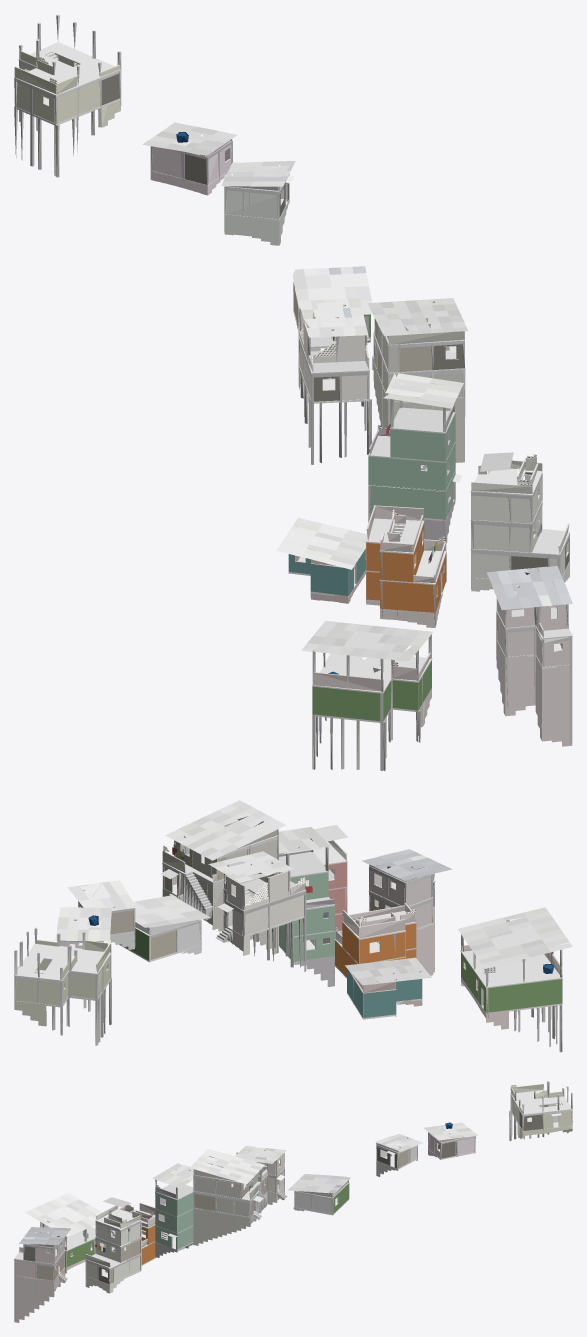
3 renders of one model, top to bottom at view 1: azimuth 30°, elevation 25°; view 2: azimuth 150°, elevation 25°; view 3: azimuth 270°, elevation 25°, orthographic. The views are drawn at different scales.
Parts seen in each view (by area): view 1: T_24_28; view 2: T_24_28; view 3: T_24_28.
Boxes of the visible parts, x1=… form: T_24_28: x1=14, y1=14, x2=572, y2=770; T_24_28: x1=14, y1=800, x2=572, y2=1052; T_24_28: x1=14, y1=1081, x2=572, y2=1322.
Bounding box in the file's own units: 31.6 × 38.45 × 86.53.
